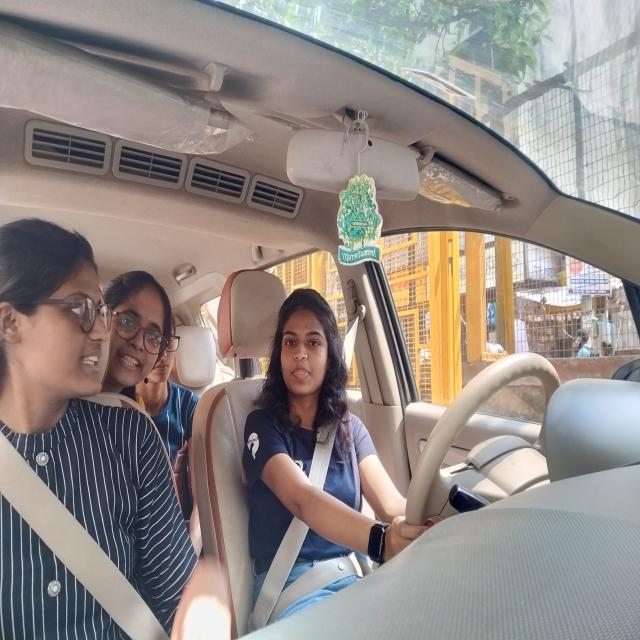LeftRight: (276, 288, 336, 422)
person: (2, 216, 114, 423), (103, 266, 172, 400), (152, 321, 184, 400)
talking: (78, 347, 102, 373), (118, 350, 141, 370), (293, 365, 315, 385)
